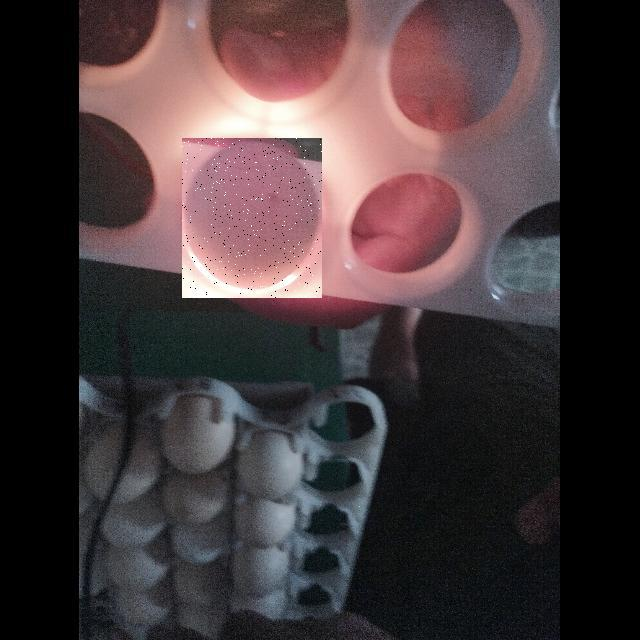Fertile: (182, 138, 322, 298)
